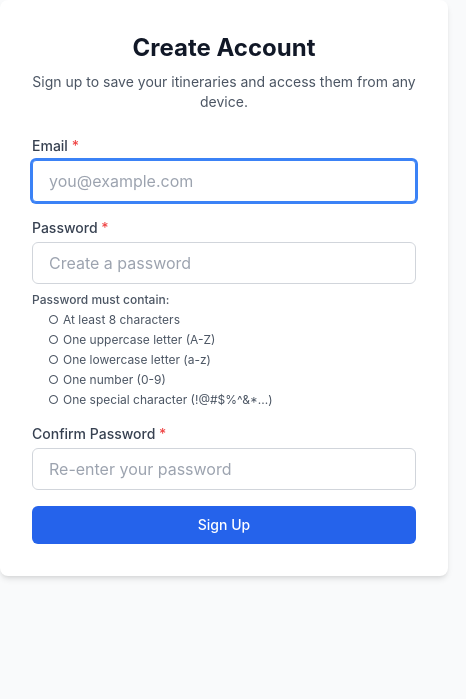
Test case: Authentication Error Messages › Sign-Up Error Messages › should display user-friendly error for unexpected failures
The width and height of the screenshot is (466, 699).
In the field labelled "Email *": (224, 181) [32,160,416,202], type "user@example.com"
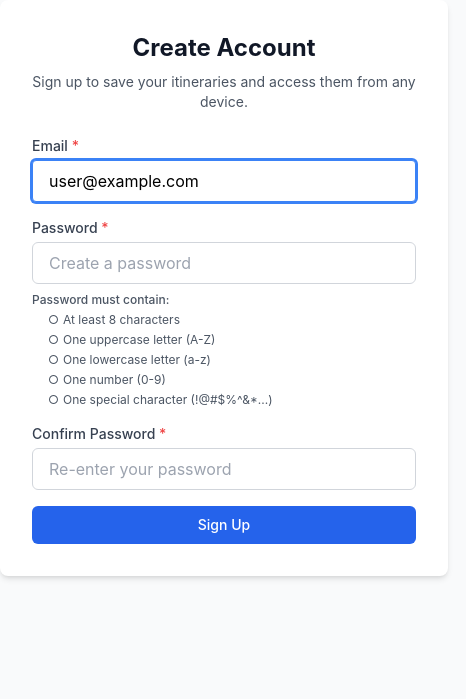
In the password field labelled "Password *": (224, 263) [32,242,416,284], type "Password123!"
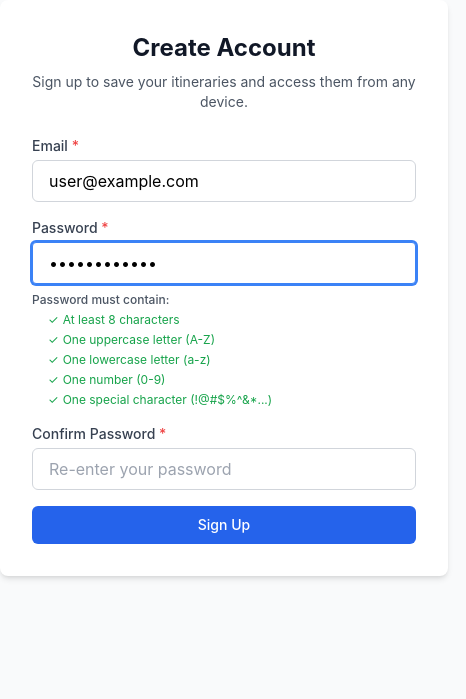
In the password field labelled "Confirm Password *": (224, 469) [32,448,416,490], type "Password123!"
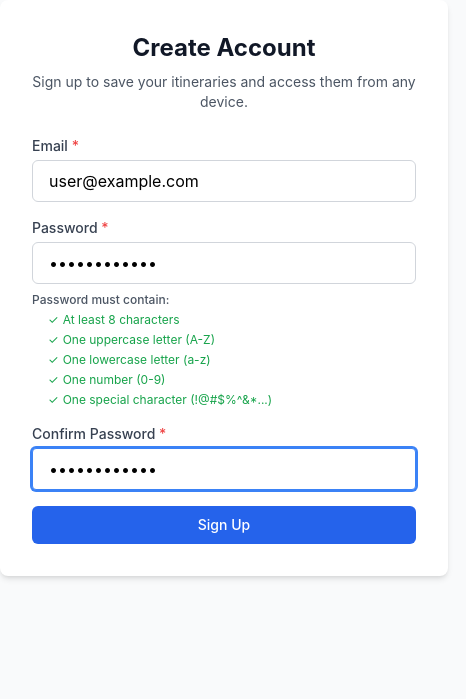
Submit form
Click the button "Sign Up": (224, 525) [32,506,416,544]
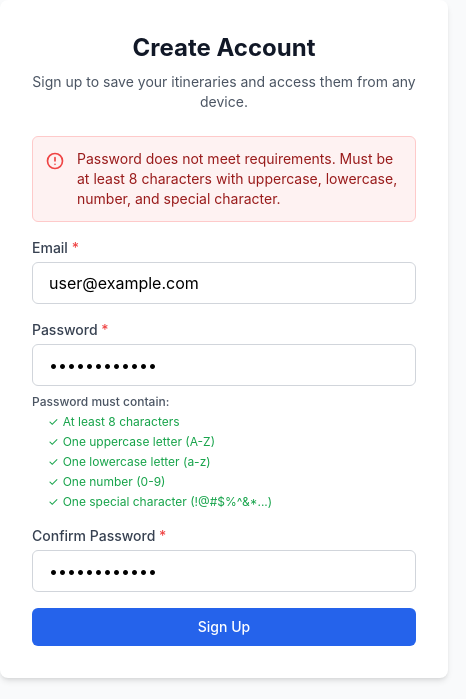
Expected: the text "Password does not meet requirements" is shown, [77,150,397,207]
